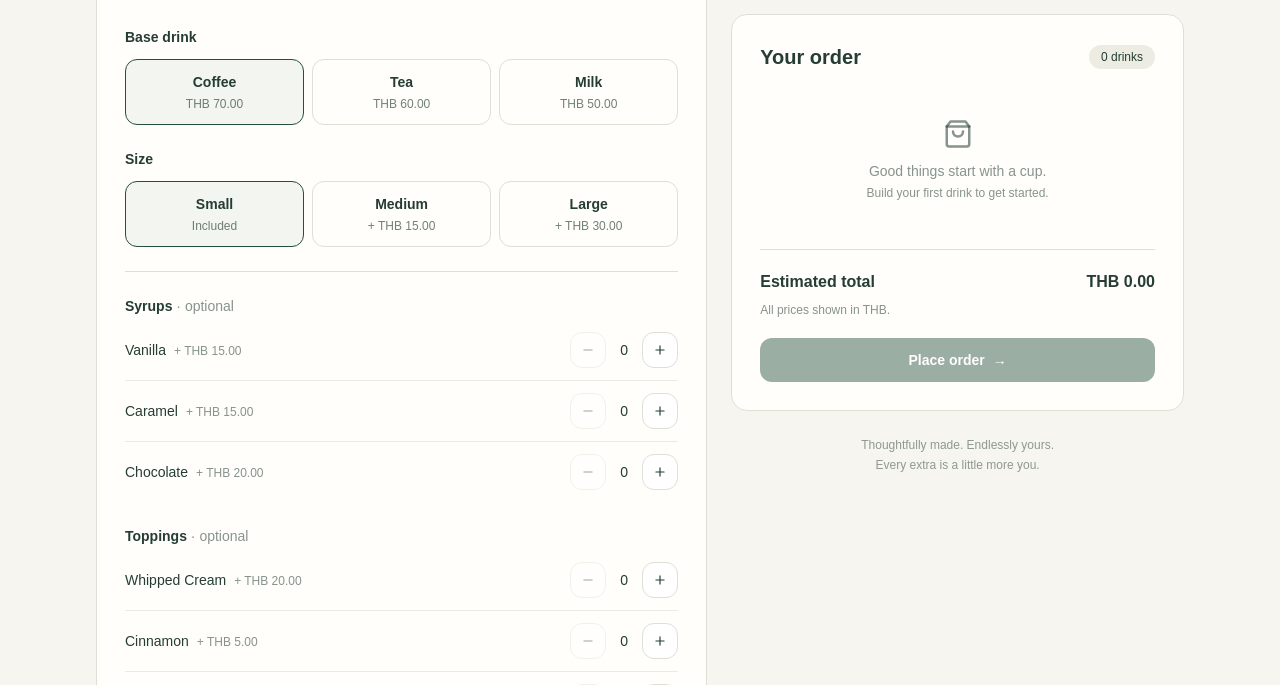
Test: Coffee ordering › adds vanilla and clearly represents duplicate quantities
(page scrolled)
Click the button named "Add Vanilla" at x=660, y=350, box [642, 332, 678, 368]
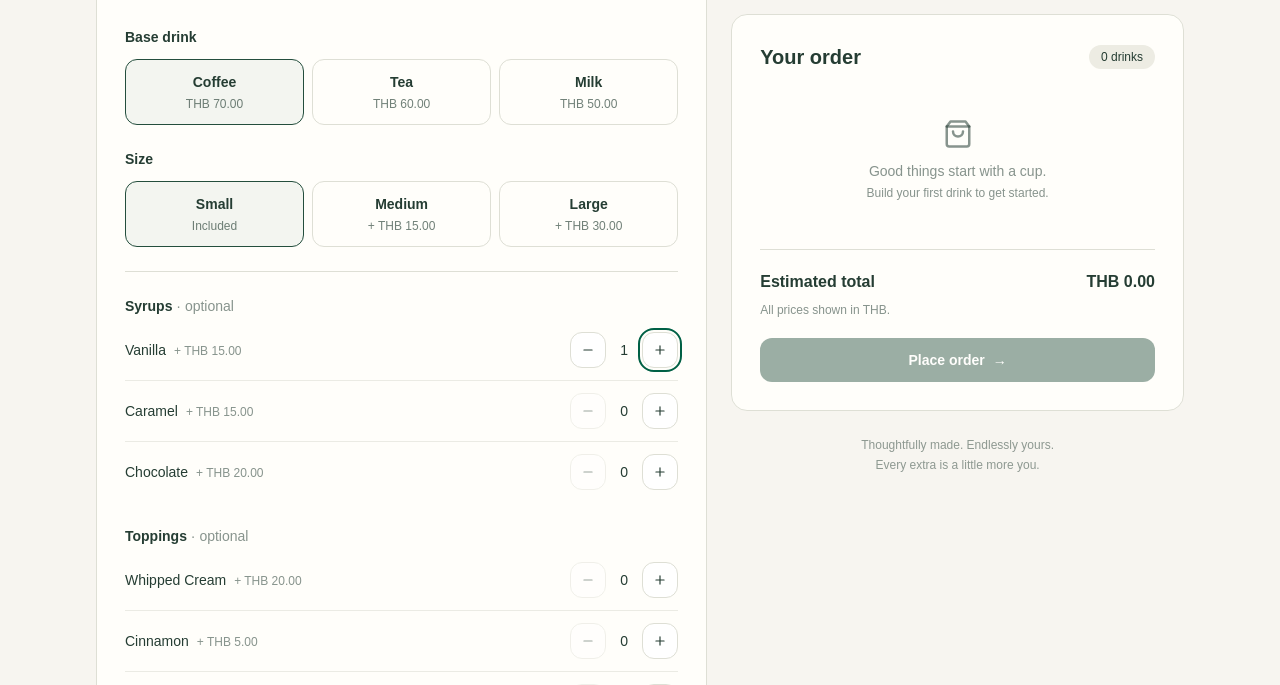
Click the button named "Add Vanilla" at x=660, y=350, box [642, 332, 678, 368]
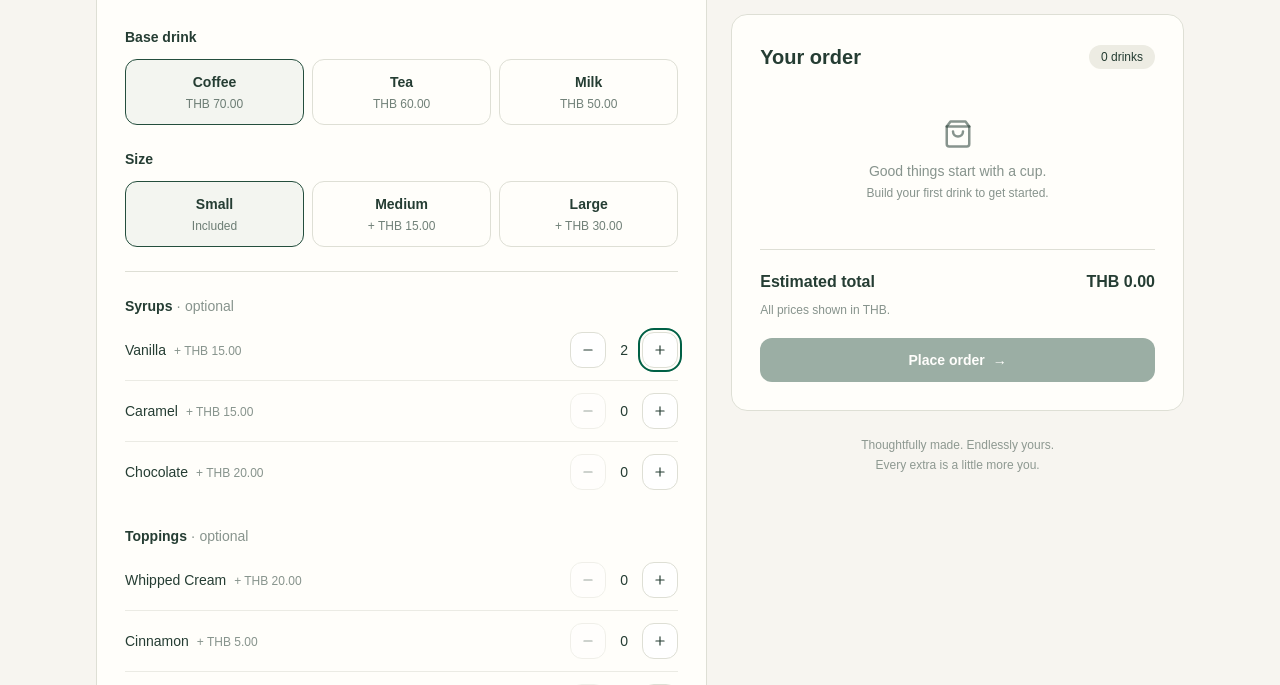
Check: the text named "Vanilla quantity" reads "2", box [620, 342, 628, 358]
